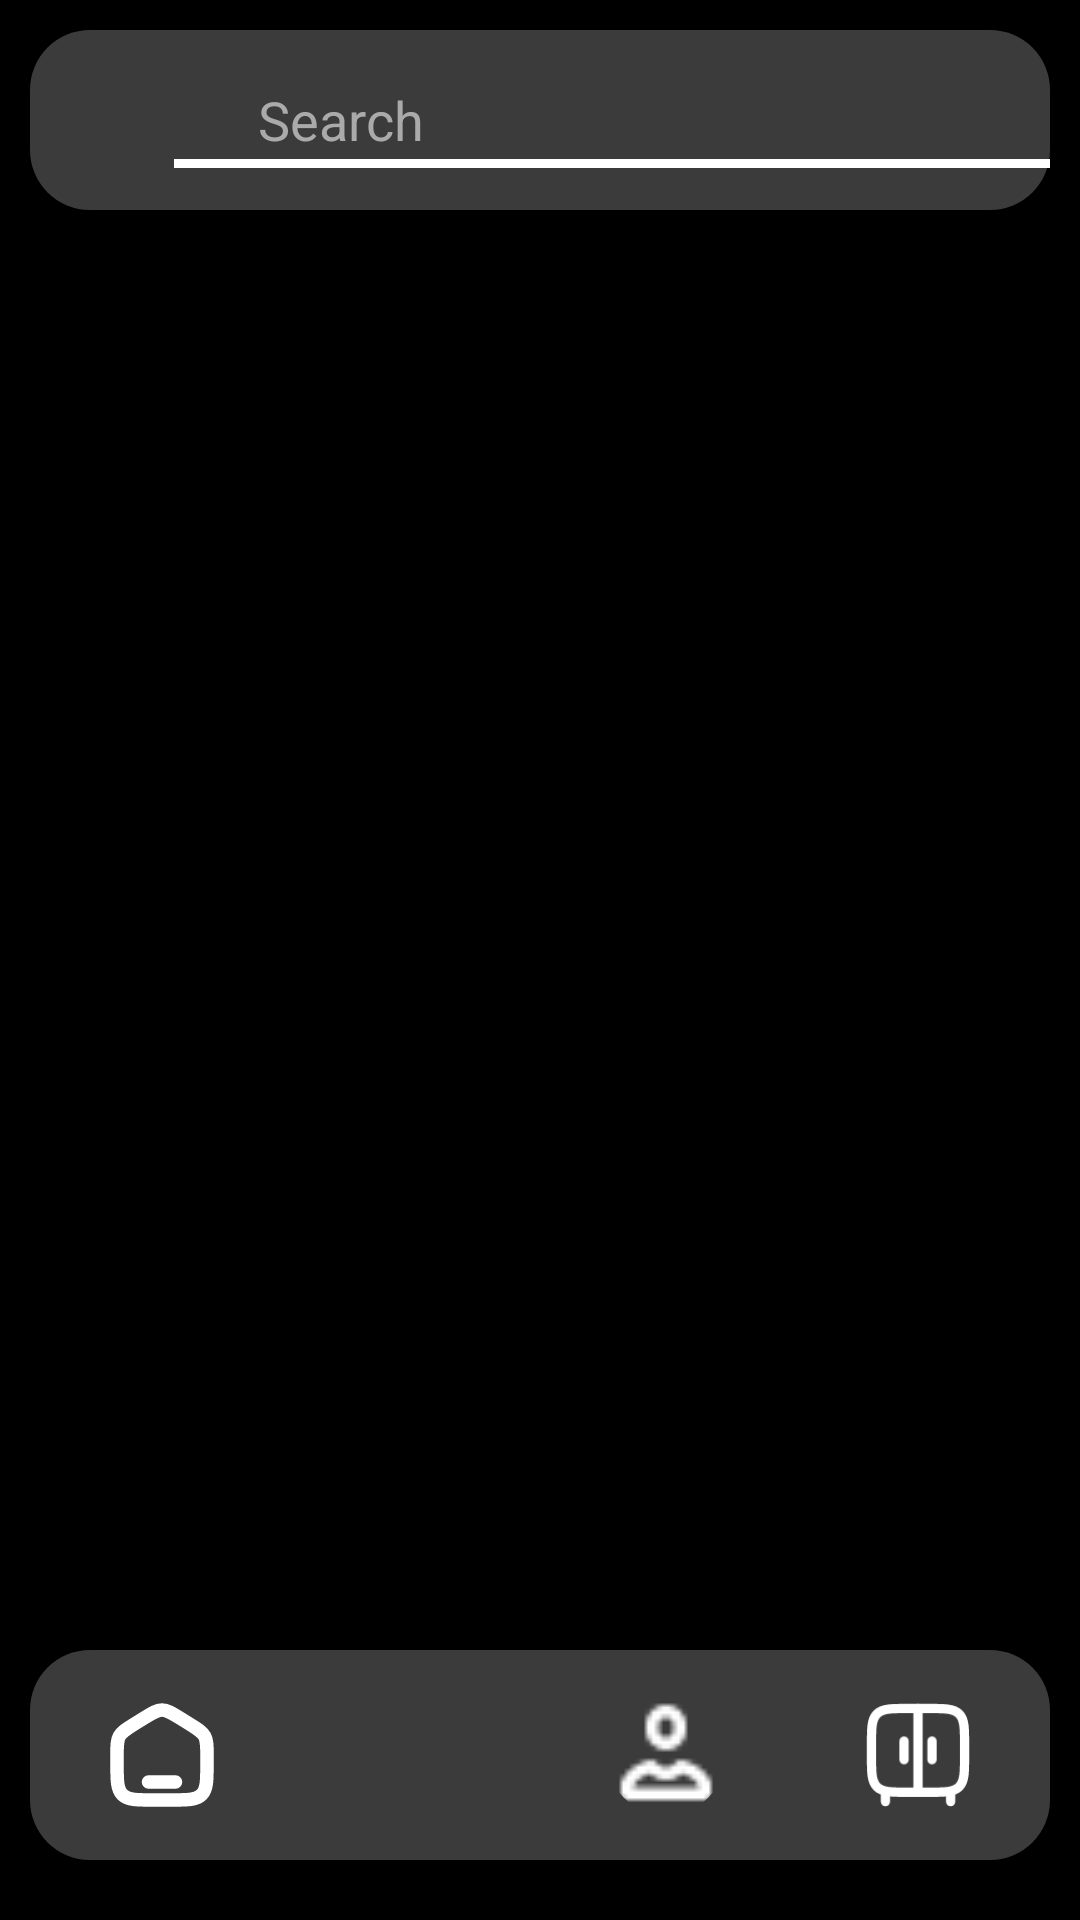

Named icons in this screenshot (1080w x 1920h) and their centers, (x,y):
account: (666,1752)
closet: (918,1755)
home: (162,1755)
